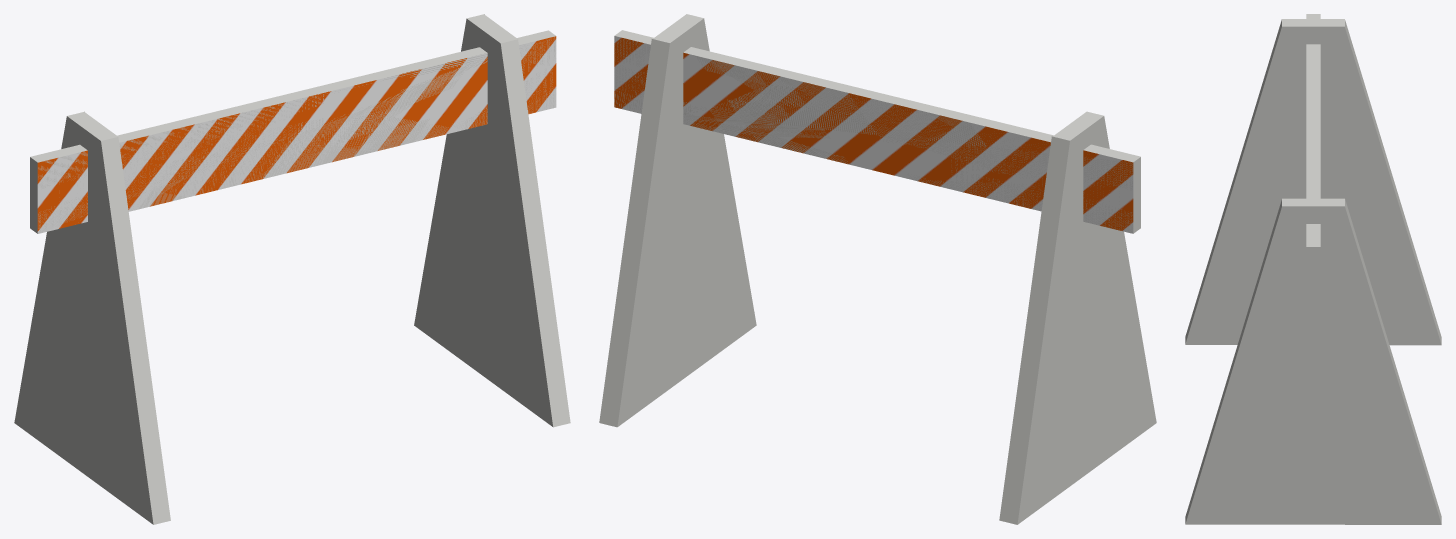
The model's file is construction_fence.dae.
3 views of the same model, side by side, from view 1: azimuth 30°, elevation 25°; view 2: azimuth 150°, elevation 25°; view 3: azimuth 270°, elevation 25° (orthographic). The views are drawn at different scales.
Visible parts, largest first — view 1: group_0 (×2), group_2, group_1; view 2: group_0 (×2), group_2, group_1; view 3: group_2, group_1, group_0.
Boxes of the visible parts, x1,y1,x2,y2 form: group_0 (×2): (30, 30, 556, 233); group_2: (414, 14, 570, 427); group_1: (14, 111, 170, 524); group_0 (×2): (614, 30, 1140, 233); group_2: (599, 14, 756, 427); group_1: (999, 111, 1156, 524); group_2: (1185, 198, 1441, 524); group_1: (1185, 19, 1441, 345); group_0: (1306, 14, 1320, 312).
Bounding box in the file's own units: 44.88 × 20.88 × 28.57.
2 materials, 1 textured.
